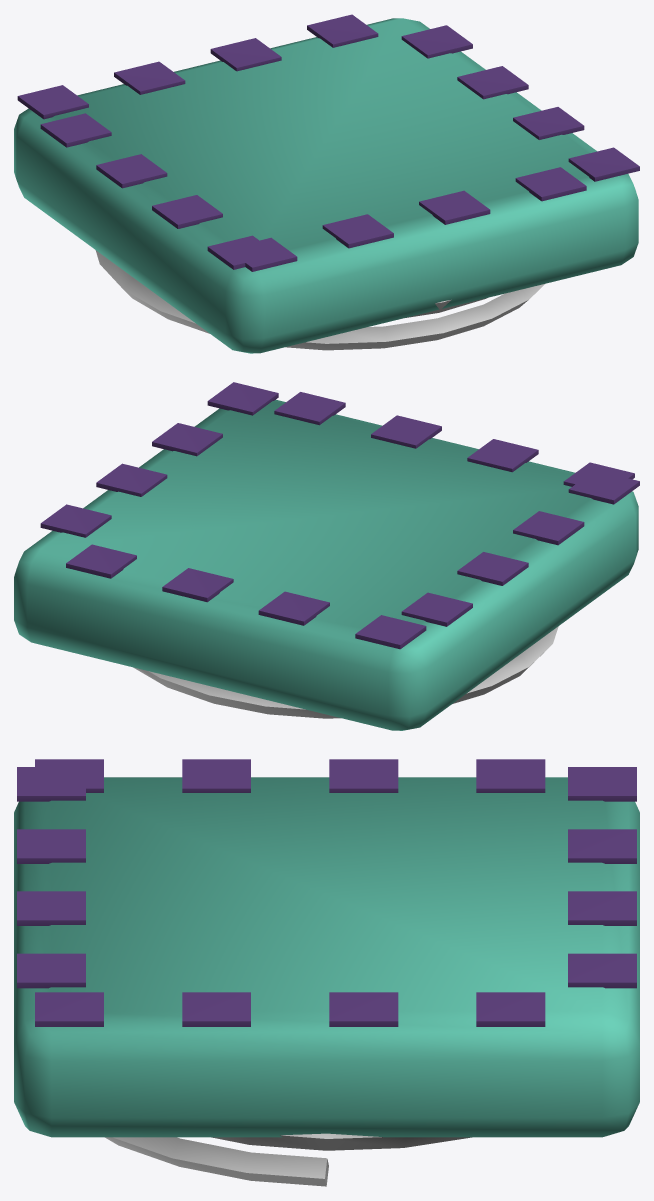
Rendered from spring_pad.glb.
3 views of the same model, one above another, from view 1: azimuth 30°, elevation 25°; view 2: azimuth 150°, elevation 25°; view 3: azimuth 270°, elevation 25° (orthographic). The views are drawn at different scales.
Parts seen in each view (by area): view 1: spring_pad; view 2: spring_pad; view 3: spring_pad.
Part boxes in pixels (<box>): spring_pad: <box>14,14,639,353</box>; spring_pad: <box>14,382,639,730</box>; spring_pad: <box>14,759,639,1186</box>.
Size of the model in its own units: 1 by 0.303 by 1.
